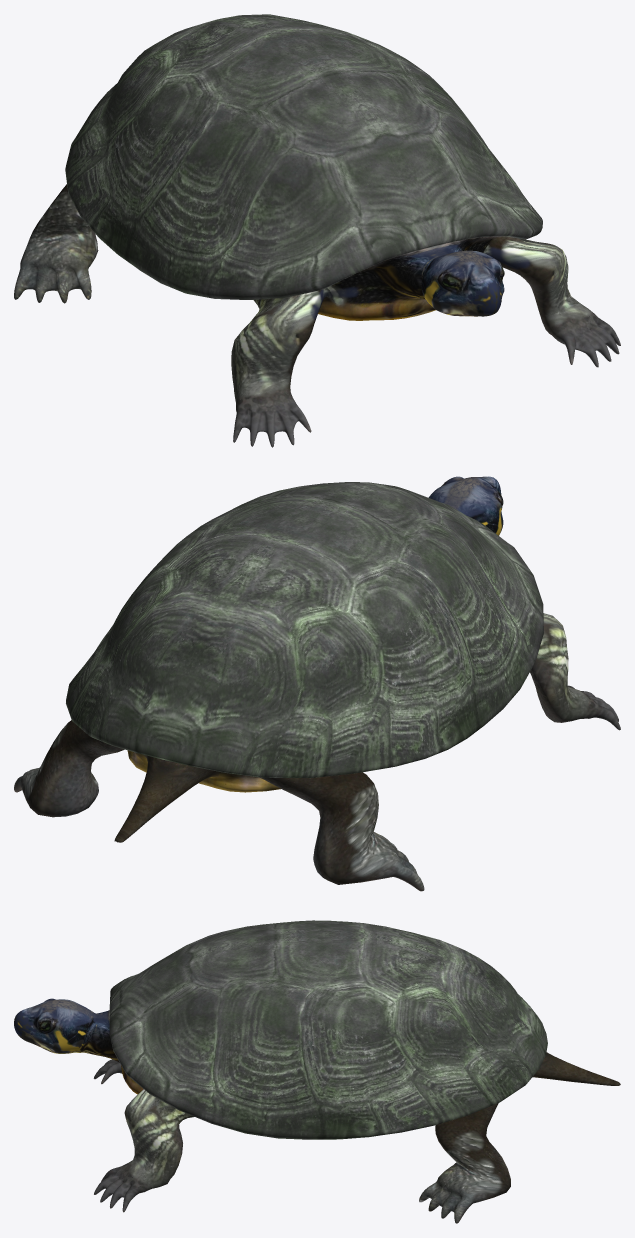
The model's file is TortugaOrejaAmarilla.glb.
The picture shows the model from 3 angles, top to bottom: view 1: azimuth 30°, elevation 25°; view 2: azimuth 150°, elevation 25°; view 3: azimuth 270°, elevation 25°; orthographic projection. The views are drawn at different scales.
Visible parts, largest first — view 1: TortugaOrejaAmarilla; view 2: TortugaOrejaAmarilla; view 3: TortugaOrejaAmarilla.
Part boxes in pixels (x1,y1,x2,y2): TortugaOrejaAmarilla: (14,14,620,447); TortugaOrejaAmarilla: (14,476,620,891); TortugaOrejaAmarilla: (14,920,620,1223).
Bounding box in the file's own units: 1.01 × 0.6182 × 1.61.
1 material, 1 textured.
